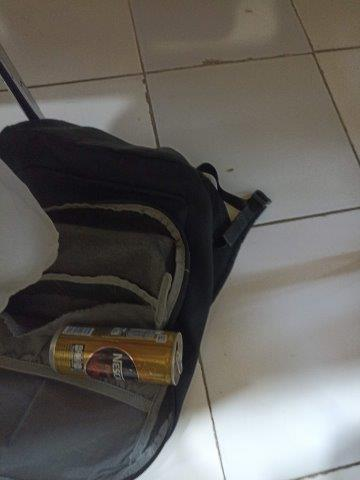kaleng: (48, 324, 183, 385)
